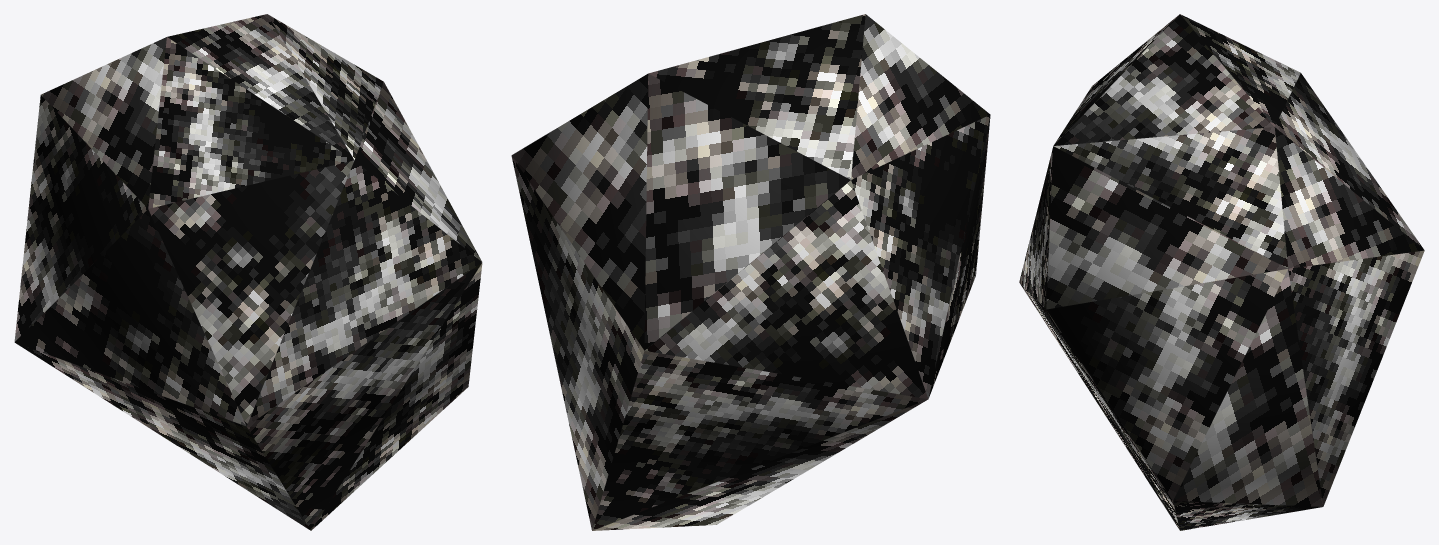
The model's file is medium grey asteroid.dae.
The picture shows the model from 3 angles, left to right: view 1: azimuth 30°, elevation 25°; view 2: azimuth 150°, elevation 25°; view 3: azimuth 270°, elevation 25°; orthographic projection. The views are drawn at different scales.
Visible parts, largest first — view 1: grey; view 2: grey; view 3: grey.
Boxes of the visible parts, x1=… form: grey: x1=14, y1=14, x2=482, y2=530; grey: x1=511, y1=14, x2=990, y2=530; grey: x1=1019, y1=14, x2=1424, y2=530.
Bounding box in the file's own units: 205 × 257 × 207.
Materials: 1 (1 with a texture image).
